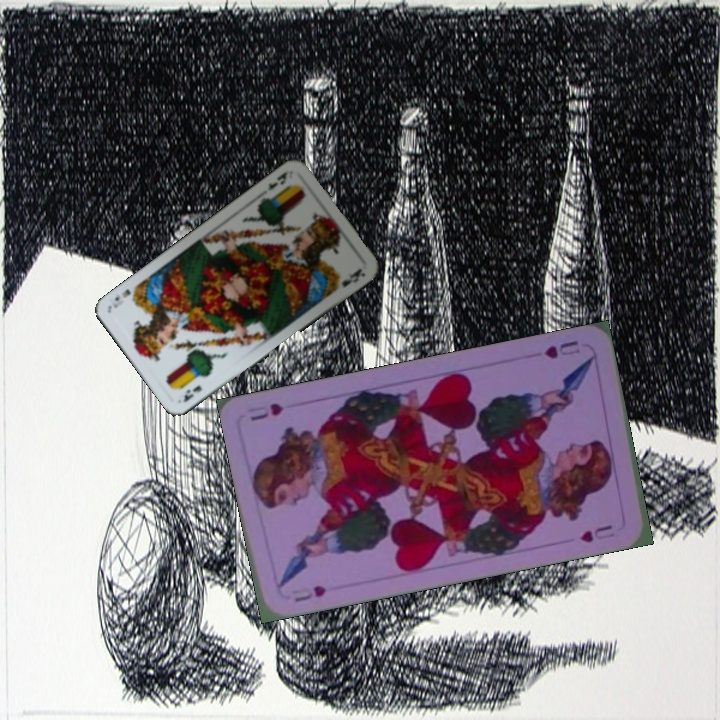EK: (263, 167, 292, 193), (179, 381, 205, 405)
HU: (541, 336, 583, 362), (290, 581, 328, 605)
